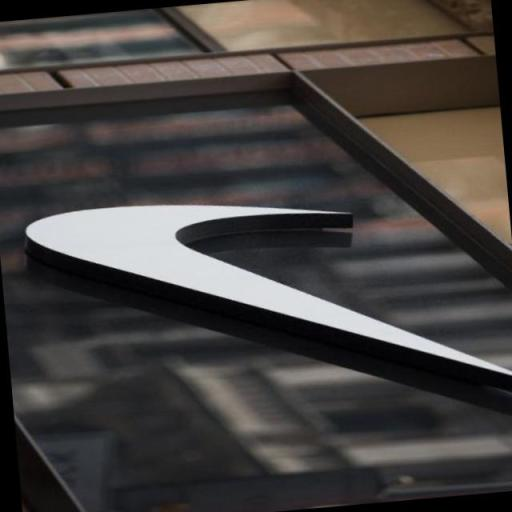Nike: (22, 168, 512, 434)
